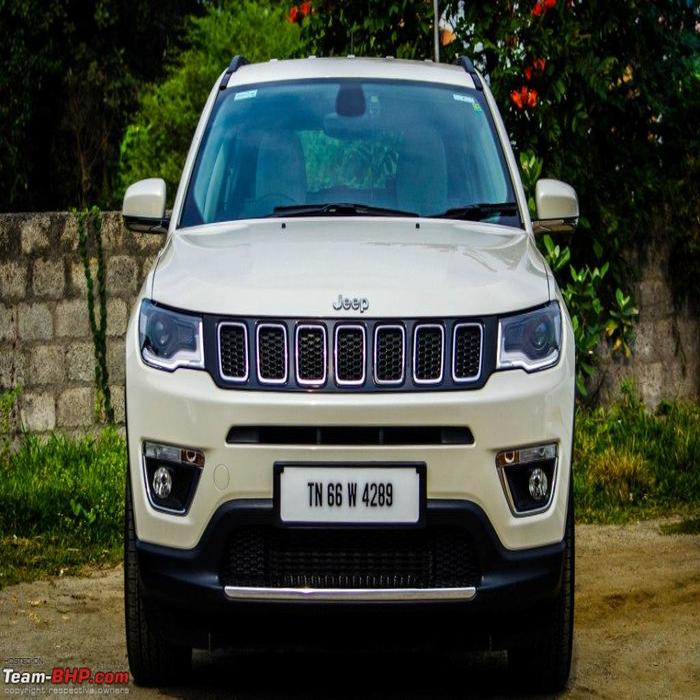n: (268, 459, 425, 523)
